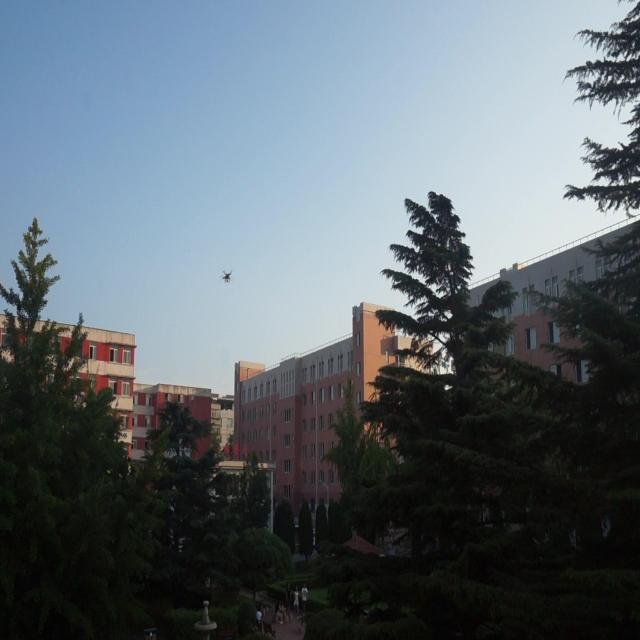drone: (220, 265, 234, 285)
